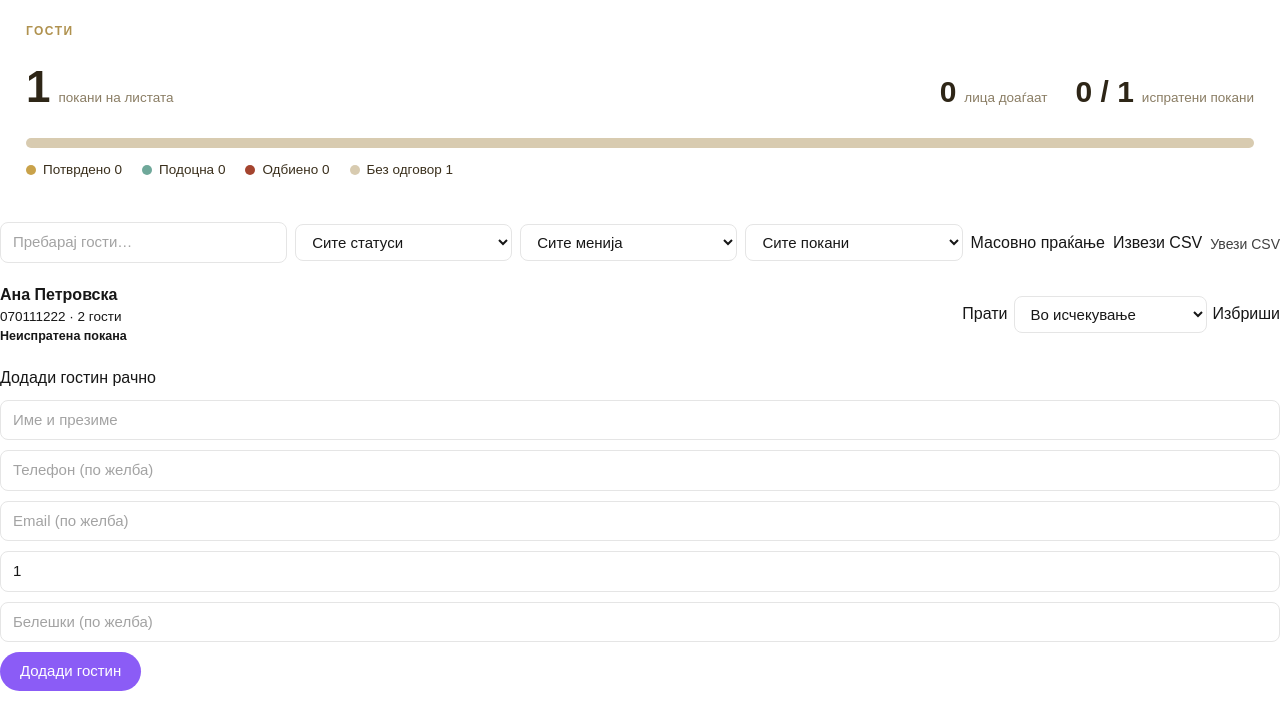
GuestsClient greetings in the details (A7) › shows what the guest wrote, with their video
The image size is (1280, 720).
Click the button with aria-label "Детали за Ана Петровска": (59, 295) x1=0 y1=283 x2=117 y2=307
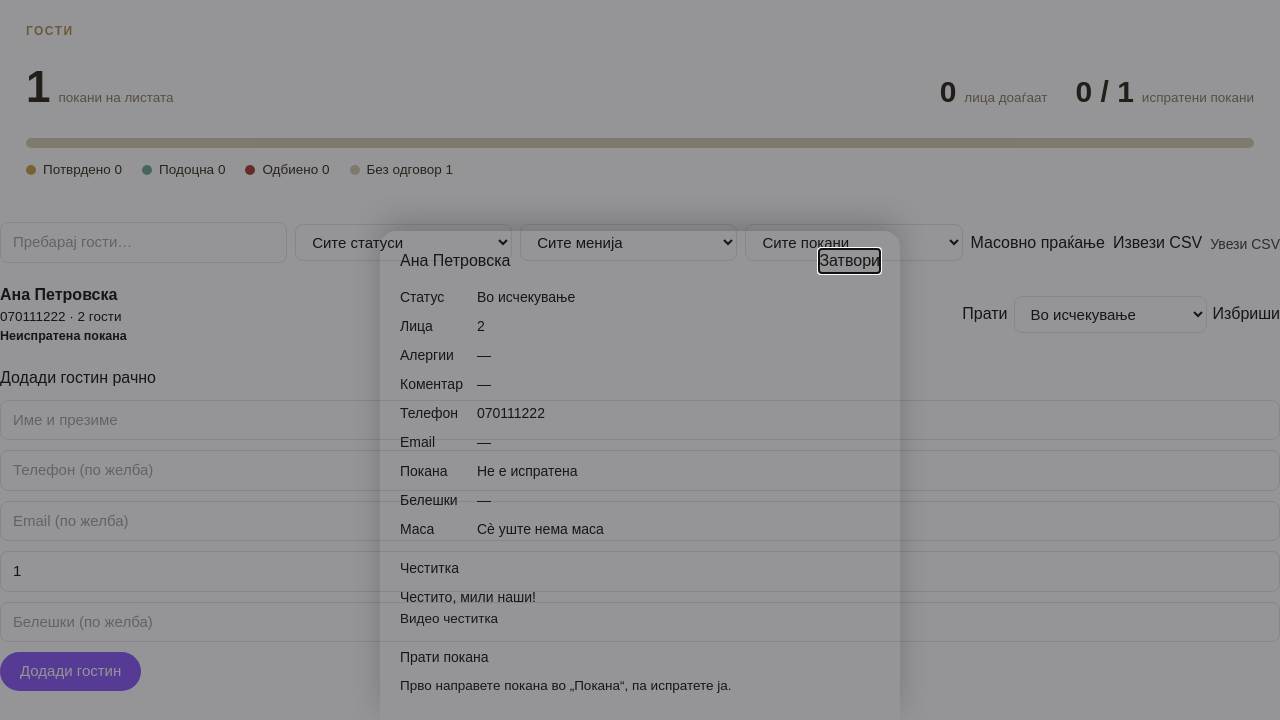
expect the text "Честито, мили наши!" is shown: met, box x1=400 y1=588 x2=536 y2=604
